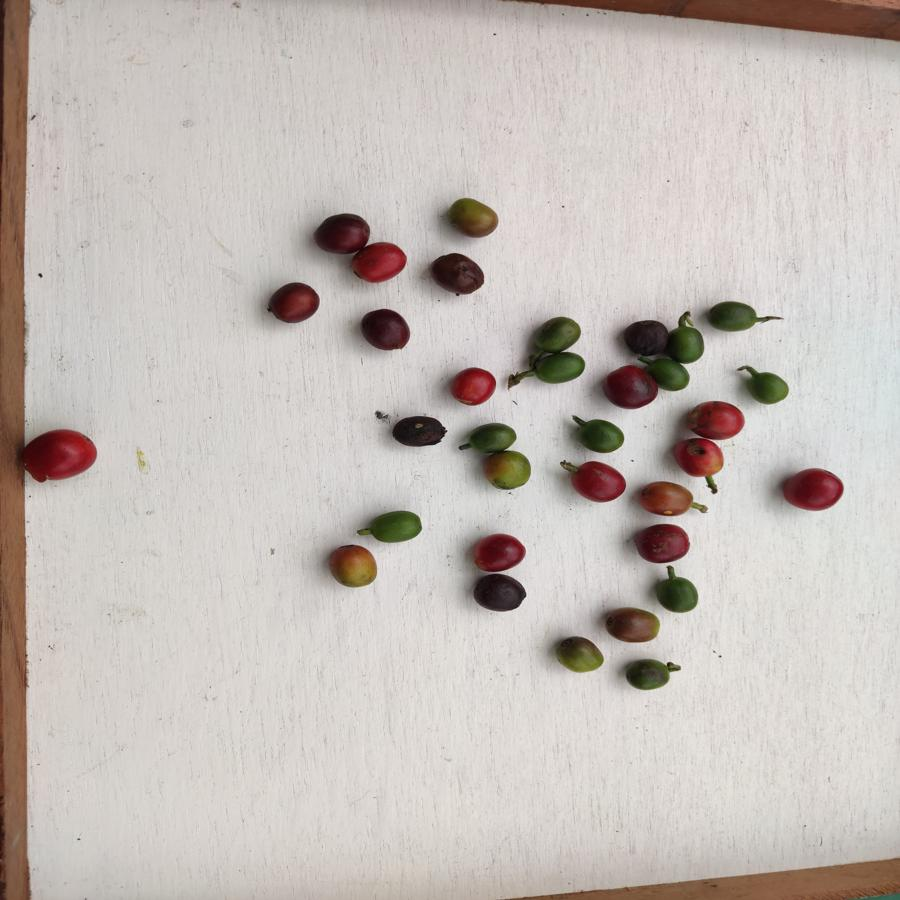Inmaduro: (706, 297, 761, 332), (532, 316, 584, 353), (370, 507, 423, 543), (656, 573, 700, 615), (744, 368, 792, 405), (623, 656, 671, 693), (534, 350, 586, 384), (576, 418, 625, 454), (467, 422, 518, 455), (670, 322, 708, 362), (655, 359, 691, 392)
Maduro: (20, 428, 98, 486), (781, 464, 844, 513), (563, 461, 630, 503), (684, 397, 745, 440), (346, 241, 408, 281), (668, 435, 726, 477), (449, 365, 498, 408)
Pinton: (324, 542, 381, 587), (445, 198, 502, 238), (602, 605, 662, 643), (638, 478, 695, 517), (555, 634, 609, 674), (480, 453, 535, 490)
Sobremaduro: (629, 521, 692, 563), (264, 280, 320, 327), (431, 250, 487, 296), (600, 365, 657, 408), (468, 532, 529, 572), (314, 211, 370, 254), (357, 308, 409, 353), (469, 573, 526, 611), (387, 414, 448, 446), (621, 317, 667, 359)
